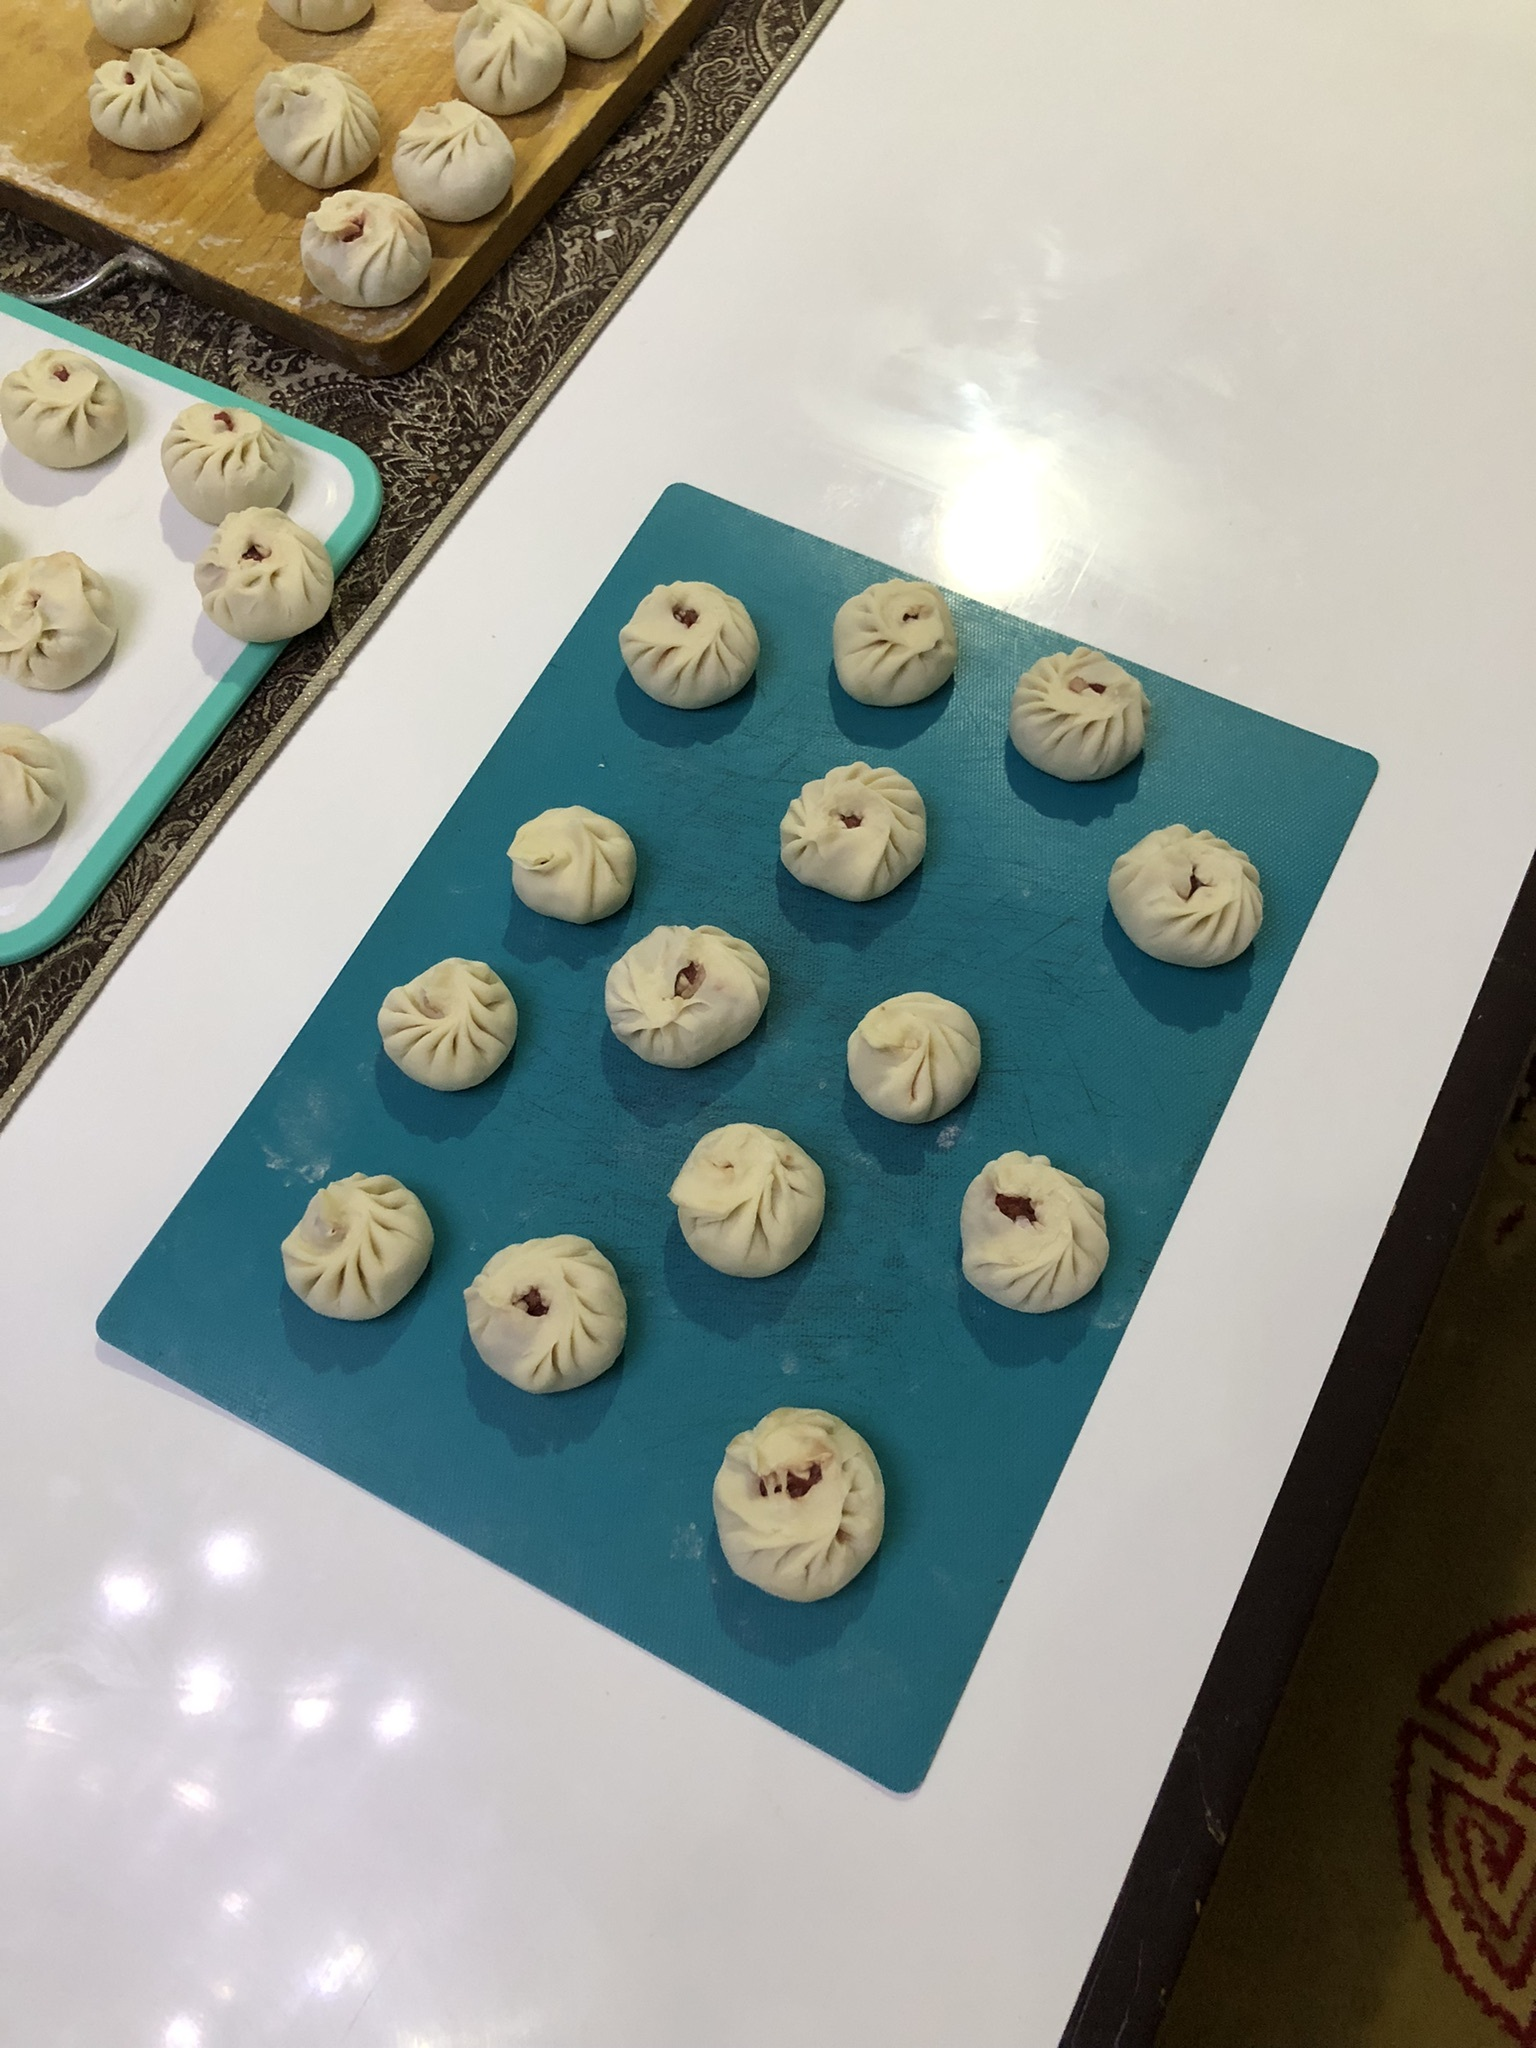buuz: (703, 1405, 894, 1608), (458, 1229, 632, 1400), (954, 1148, 1118, 1321), (665, 1118, 833, 1284), (274, 1166, 439, 1329), (603, 922, 774, 1072), (1104, 819, 1271, 971), (774, 756, 931, 906), (1004, 640, 1155, 785), (373, 951, 524, 1097), (615, 576, 763, 714), (841, 989, 989, 1127), (502, 798, 644, 927), (829, 576, 963, 710)
